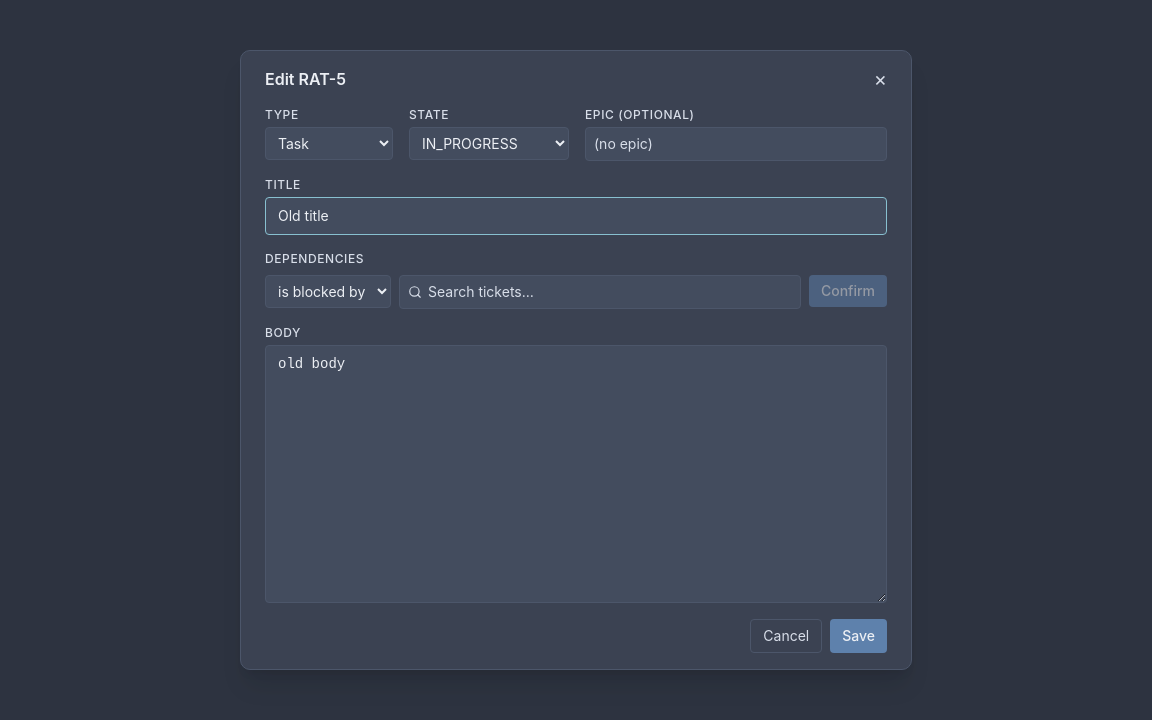
Scenario: EditTicketModal › should display an inline error banner when the mutation fails
Replace the text in the field labelled "Title" with "Changed": point(576, 216) [265,197,887,235]
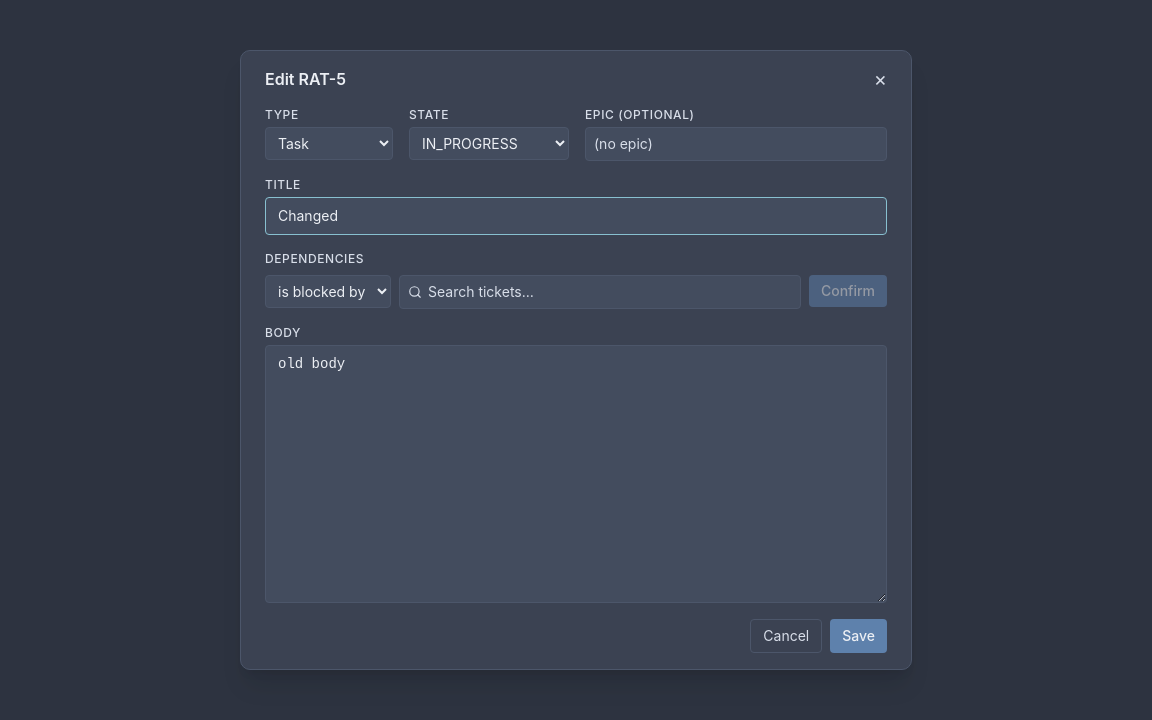
Click the button "Save": point(859, 636) [830,619,887,653]
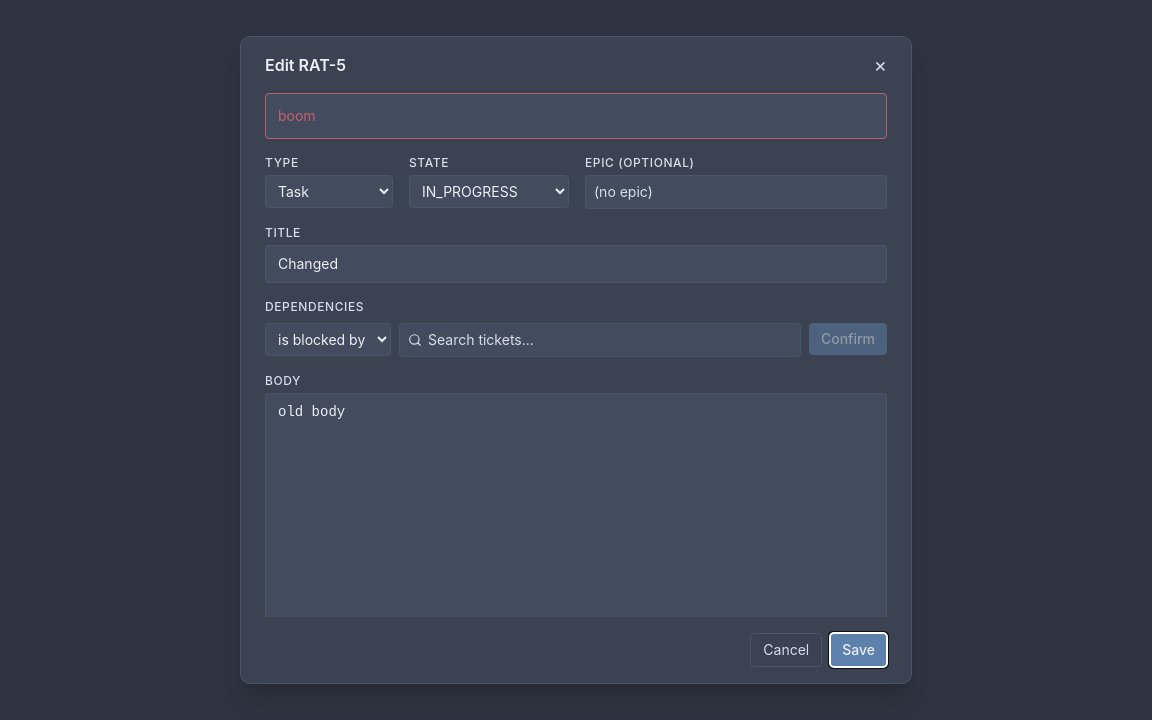
Expected: the text "boom" is shown, [265,93,887,139]
